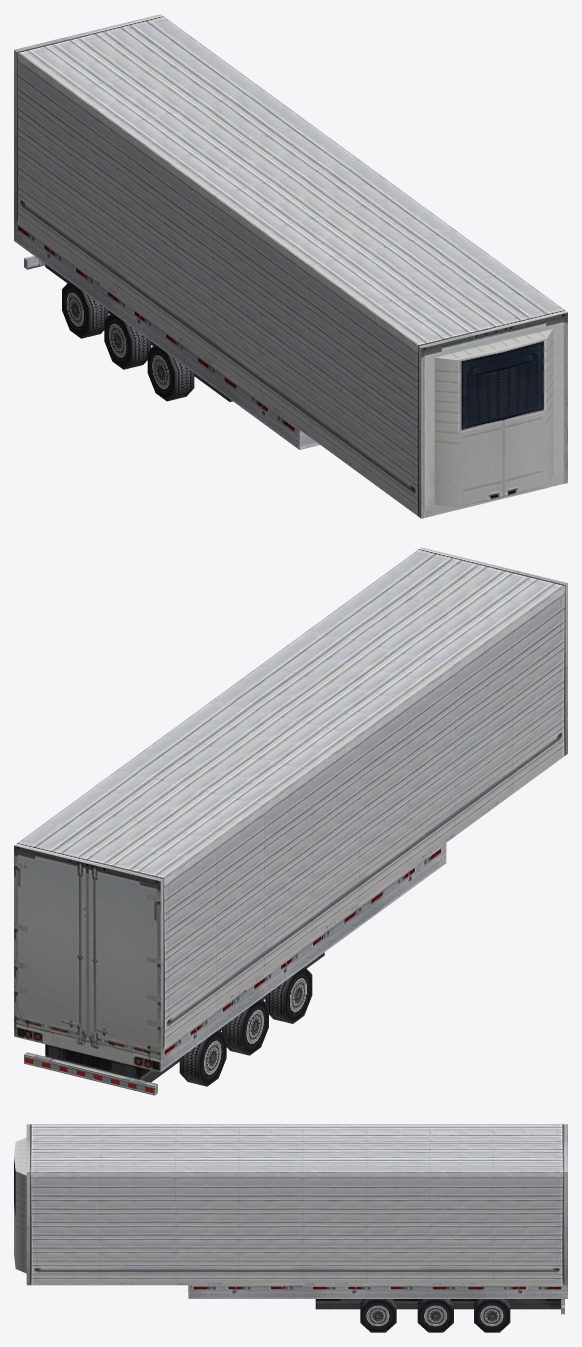
The model's file is Car_SemitrailerRefrigerator.fbx.
3 views of the same model, one above another, from view 1: azimuth 30°, elevation 25°; view 2: azimuth 150°, elevation 25°; view 3: azimuth 270°, elevation 25° (orthographic). The views are drawn at different scales.
Parts seen in each view (by area): view 1: Car_SemitrailerRefrigerator; view 2: Car_SemitrailerRefrigerator; view 3: Car_SemitrailerRefrigerator.
Boxes of the visible parts, x1,y1,x2,y2 form: Car_SemitrailerRefrigerator: [14, 14, 567, 518]; Car_SemitrailerRefrigerator: [14, 547, 567, 1095]; Car_SemitrailerRefrigerator: [14, 1124, 567, 1332].
Size of the model in its own units: 2.5 by 3.98 by 12.31.
